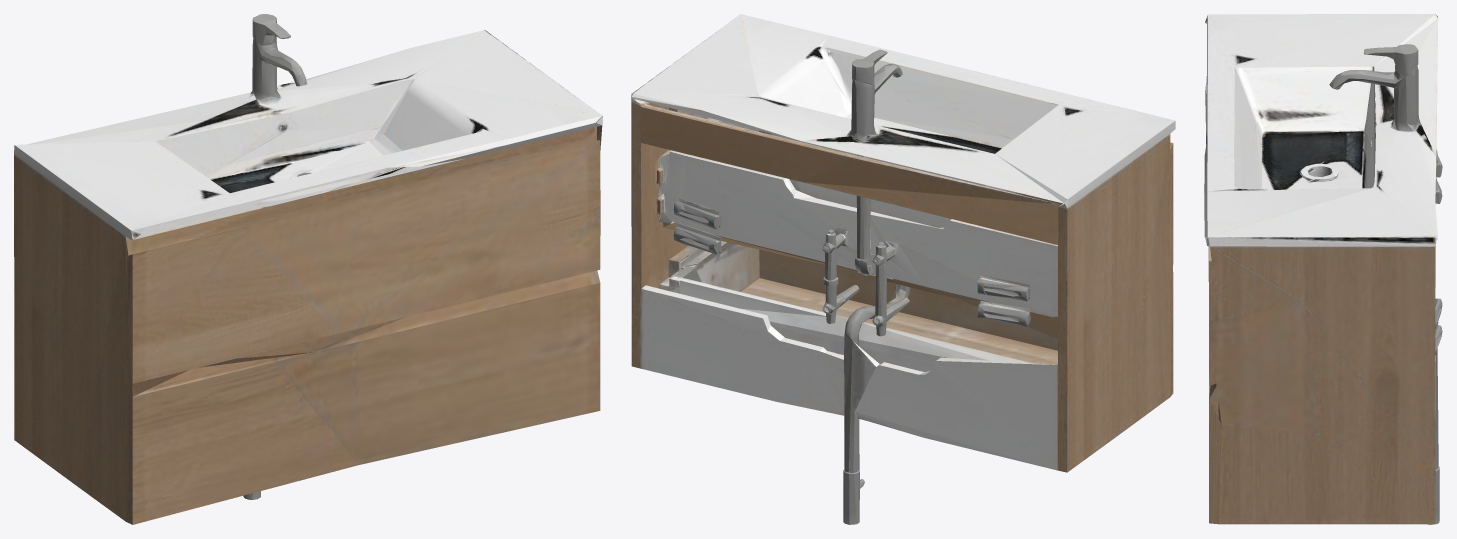
Rendered from vanity.glb.
The picture shows the model from 3 angles, left to right: view 1: azimuth 30°, elevation 25°; view 2: azimuth 150°, elevation 25°; view 3: azimuth 270°, elevation 25°; orthographic projection. The views are drawn at different scales.
Size of the model in its own units: 1.9 by 1.87 by 0.853.
Materials: 1 (1 with a texture image).
